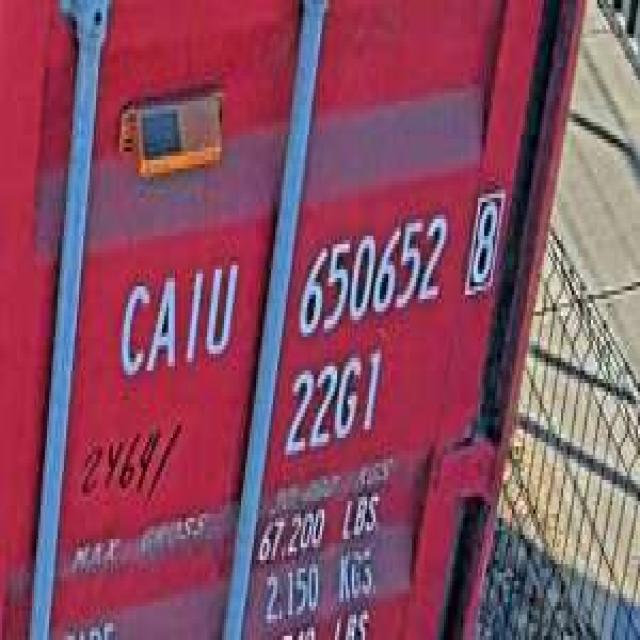dv: (463, 181, 503, 303)
owner: (111, 245, 239, 388)
serial: (292, 202, 452, 337)
size: (279, 341, 384, 459)
